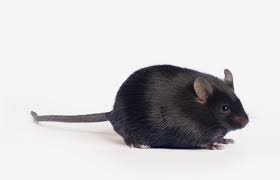mice: (30, 62, 249, 154)
